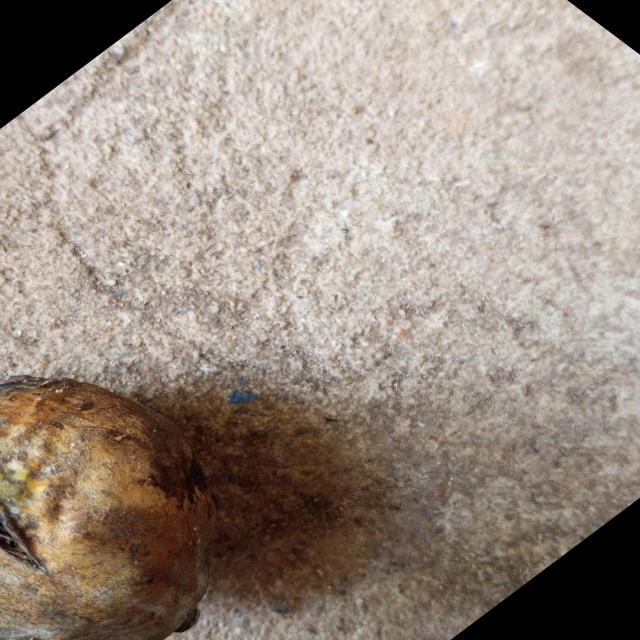damaged: (0, 376, 217, 640)
